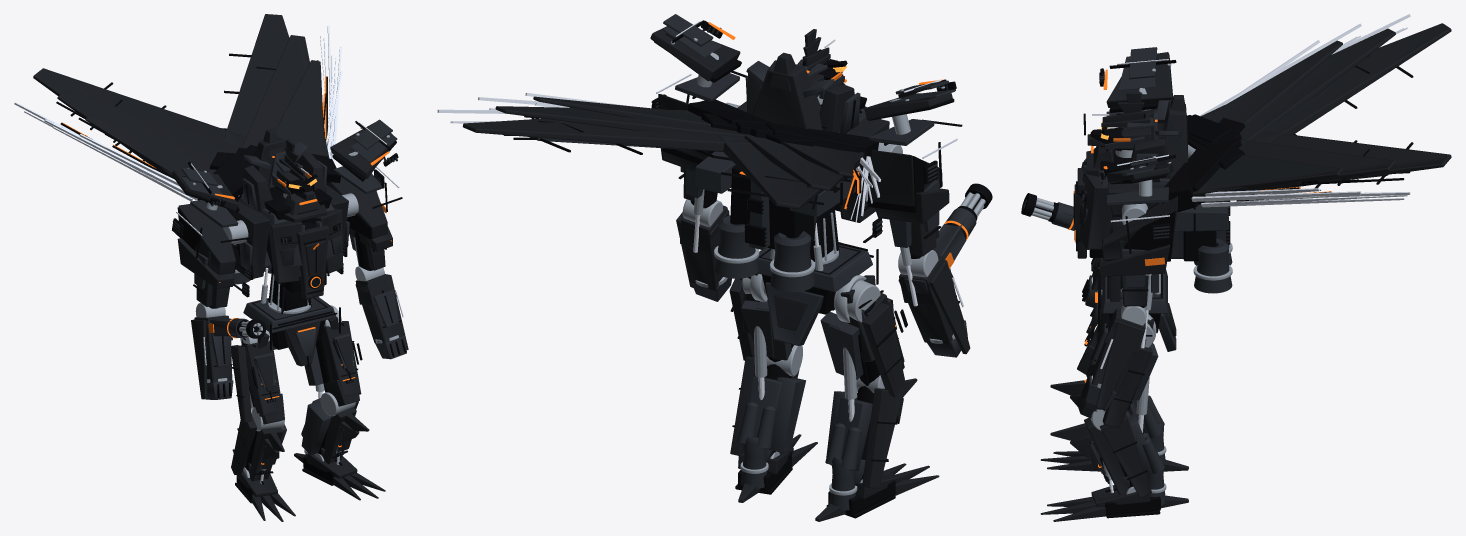
Rendered from mech.glb.
3 renders of one model, left to right at view 1: azimuth 30°, elevation 25°; view 2: azimuth 150°, elevation 25°; view 3: azimuth 270°, elevation 25°, orthographic. The views are drawn at different scales.
Parts seen in each view (by area): view 1: Torso_body, Shoulder_R_body, Wing1_L_body, Hip_R_body, Wing2_L_body, Wing2_R_body, Wing3_R_body, Wing1_R_body, Wing3_L_body, Shoulder_L_body, Torso_under, Torso_plate (+30 smaller); view 2: Torso_body, Shoulder_R_body, Wing1_L_body, Knee_L_plate, Pelvis_plate, Forearm_R_body, Wing1_R_body, Backpack_under, Wing2_L_body, Knee_R_plate, Shoulder_L_body, Hip_R_body (+42 smaller); view 3: Torso_body, Wing1_R_body, Knee_L_body, Wing2_R_body, Shoulder_L_body, Wing1_L_body, Wing2_L_body, Wing3_L_body, Wing3_R_body, Forearm_L_body, Foot_L_body, Shoulder_L_under (+33 smaller).
Part boxes in pixels (box(x1,y1,x2,y2)): Torso_body: box(228, 128, 348, 283); Shoulder_R_body: box(172, 170, 238, 288); Wing1_L_body: box(223, 14, 326, 156); Hip_R_body: box(231, 340, 284, 424); Wing2_L_body: box(242, 35, 329, 158); Wing2_R_body: box(57, 90, 244, 179); Wing3_R_body: box(85, 114, 216, 173); Wing1_R_body: box(33, 68, 245, 146); Wing3_L_body: box(275, 60, 324, 155); Shoulder_L_body: box(330, 122, 392, 251); Torso_under: box(233, 183, 348, 313); Torso_plate: box(233, 141, 349, 295); Torso_body: box(737, 52, 889, 222); Shoulder_R_body: box(862, 92, 952, 223); Wing1_L_body: box(462, 110, 751, 151); Knee_L_plate: box(737, 376, 805, 461); Pelvis_plate: box(743, 244, 873, 354); Forearm_R_body: box(898, 255, 970, 354); Wing1_R_body: box(719, 136, 862, 209); Backpack_under: box(730, 165, 814, 249); Wing2_L_body: box(495, 106, 754, 137); Knee_R_plate: box(825, 391, 872, 483); Shoulder_L_body: box(650, 26, 740, 171); Hip_R_body: box(862, 292, 906, 397); Torso_body: box(1079, 95, 1188, 249); Wing1_R_body: box(1201, 23, 1451, 142); Knee_L_body: box(1050, 414, 1151, 497); Wing2_R_body: box(1201, 28, 1395, 143); Shoulder_L_body: box(1099, 160, 1177, 276); Wing1_L_body: box(1193, 131, 1451, 192); Wing2_L_body: box(1193, 139, 1395, 196); Wing3_L_body: box(1204, 155, 1342, 189); Wing3_R_body: box(1204, 40, 1342, 125); Forearm_L_body: box(1091, 308, 1145, 409); Foot_L_body: box(1040, 485, 1188, 521); Shoulder_L_under: box(1083, 154, 1176, 261).
Bounding box in the file's own units: 6.4 × 6.64 × 6.51.
